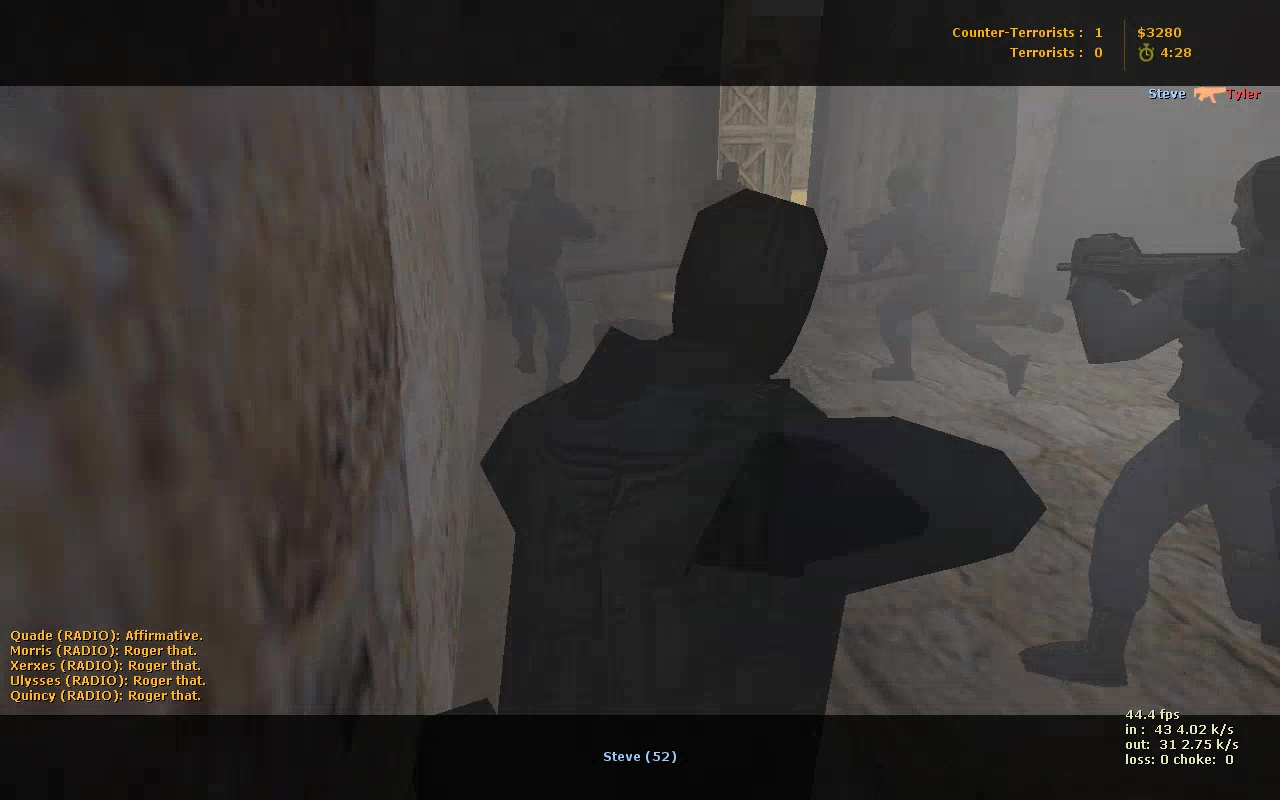ct: (502, 189, 1039, 704), (1051, 157, 1280, 687), (860, 166, 1027, 389), (499, 164, 593, 388)
